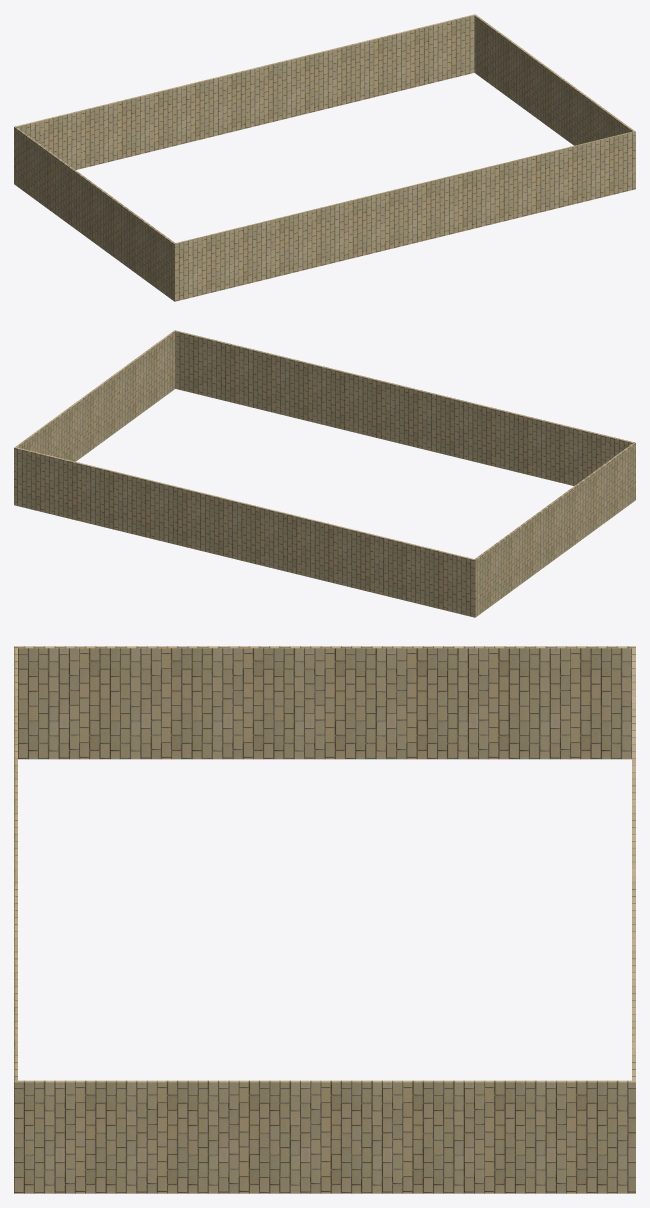
File: envA.dae
3 views of the same model, one above another, from view 1: azimuth 30°, elevation 25°; view 2: azimuth 150°, elevation 25°; view 3: azimuth 270°, elevation 25° (orthographic). The views are drawn at different scales.
Parts seen in each view (by area): view 1: stitch_result_stitchFBXASC032all; view 2: stitch_result_stitchFBXASC032all; view 3: stitch_result_stitchFBXASC032all.
Boxes of the visible parts, x1=… form: stitch_result_stitchFBXASC032all: x1=14, y1=14, x2=635, y2=301; stitch_result_stitchFBXASC032all: x1=14, y1=330, x2=635, y2=617; stitch_result_stitchFBXASC032all: x1=14, y1=646, x2=635, y2=1193.
Bounding box in the file's own units: 126 × 76 × 15.
1 material, 1 textured.
